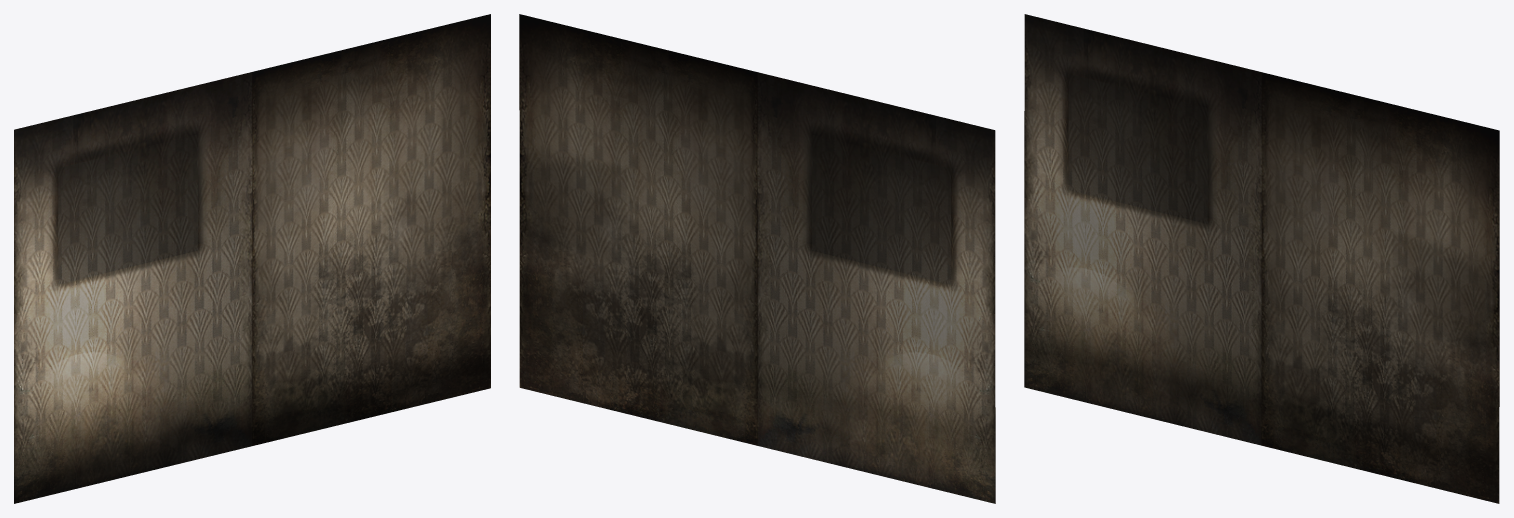
File: Room11.obj
3 renders of one model, left to right at view 1: azimuth 30°, elevation 25°; view 2: azimuth 150°, elevation 25°; view 3: azimuth 330°, elevation 25°, orthographic.
Visible parts, largest first — view 1: Room11; view 2: Room11; view 3: Room11.
Boxes of the visible parts, x1,y1,x2,y2 form: Room11: (14, 14, 490, 503); Room11: (519, 14, 995, 503); Room11: (1024, 14, 1499, 503).
Bounding box in the file's own units: 33.74 × 25.31 × 0.0689.
